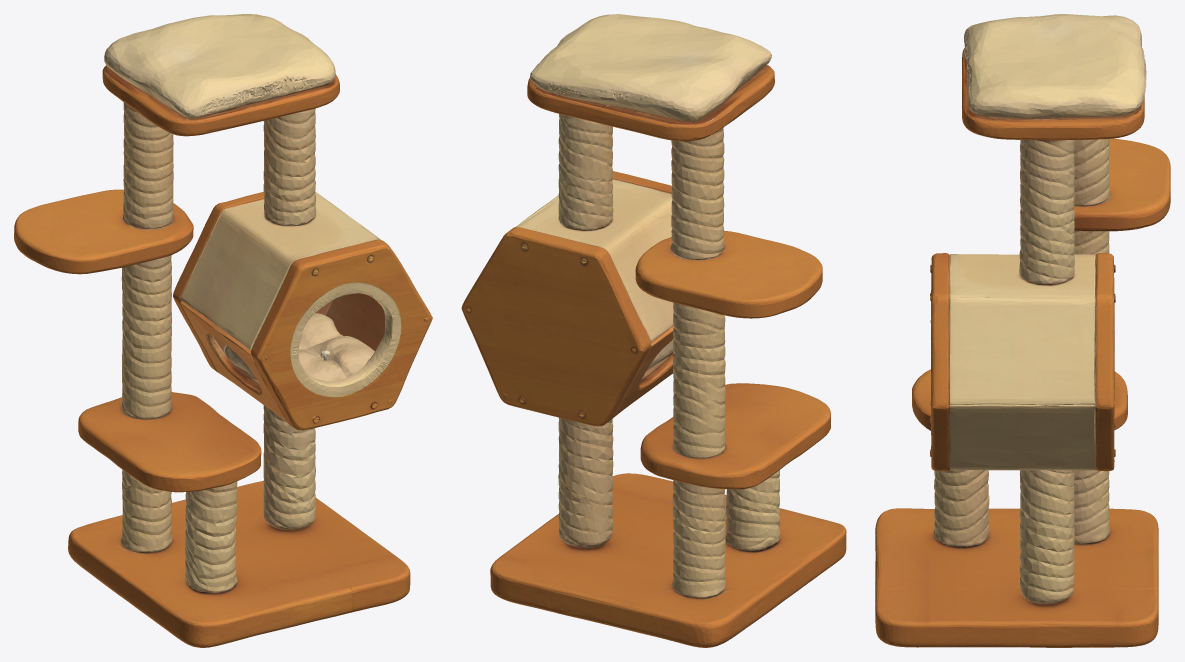
File: DOM_kotik_1__base.glb
The picture shows the model from 3 angles, left to right: view 1: azimuth 30°, elevation 25°; view 2: azimuth 150°, elevation 25°; view 3: azimuth 270°, elevation 25°; orthographic projection. The views are drawn at different scales.
Visible parts, largest first — view 1: tripo_node_6a6f5a7a-5f87-416d-85f8-acb2c2860e7f; view 2: tripo_node_6a6f5a7a-5f87-416d-85f8-acb2c2860e7f; view 3: tripo_node_6a6f5a7a-5f87-416d-85f8-acb2c2860e7f.
Part boxes in pixels (bbox=[...]): tripo_node_6a6f5a7a-5f87-416d-85f8-acb2c2860e7f: bbox=[14, 14, 432, 647]; tripo_node_6a6f5a7a-5f87-416d-85f8-acb2c2860e7f: bbox=[461, 14, 846, 647]; tripo_node_6a6f5a7a-5f87-416d-85f8-acb2c2860e7f: bbox=[875, 14, 1170, 647].
Bounding box in the file's own units: 0.6468 × 0.9791 × 0.4811.
Materials: 1 (1 with a texture image).
